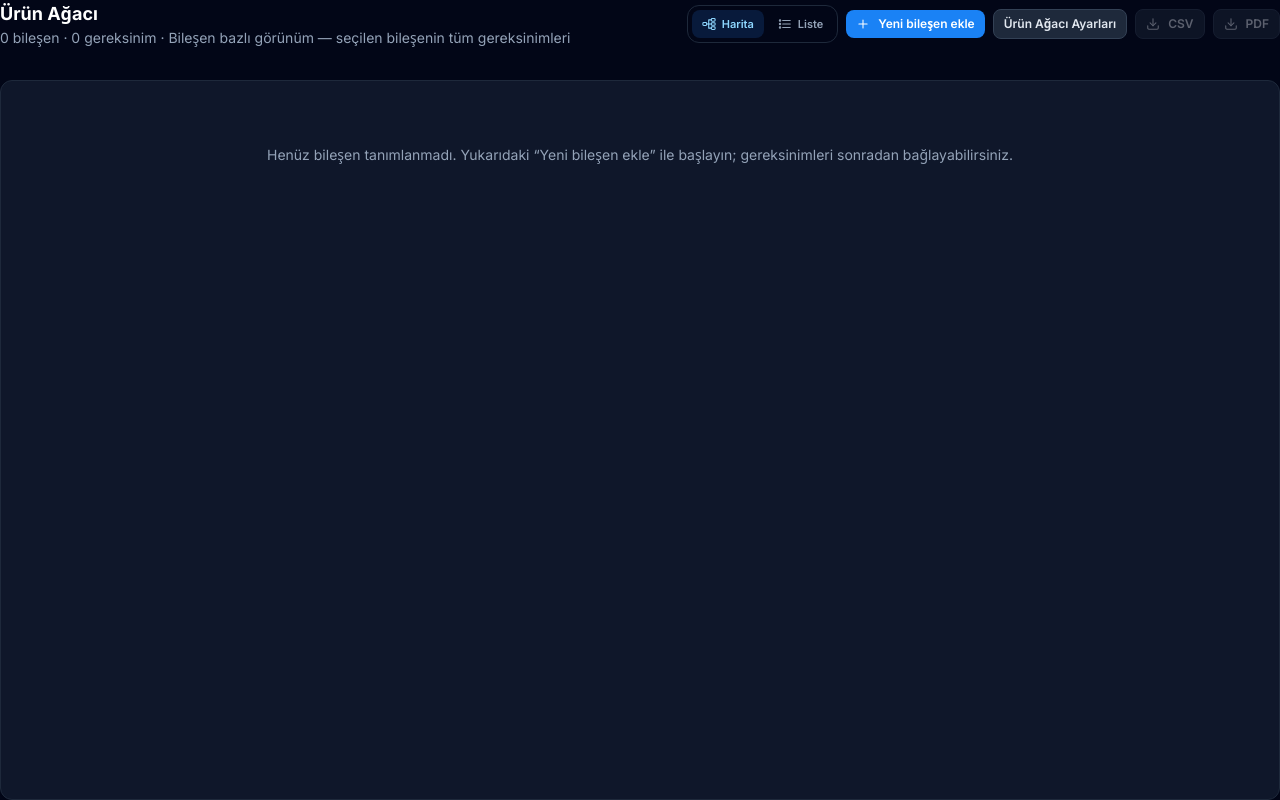
Test: Boş proje: bileşen oluşturma › hiç gereksinimi olmayan projede boş liste + "Yeni bileşen ekle" ile açılır
Click the button with test id "comp-view-list" at (801, 24), box [768,10,833,38]
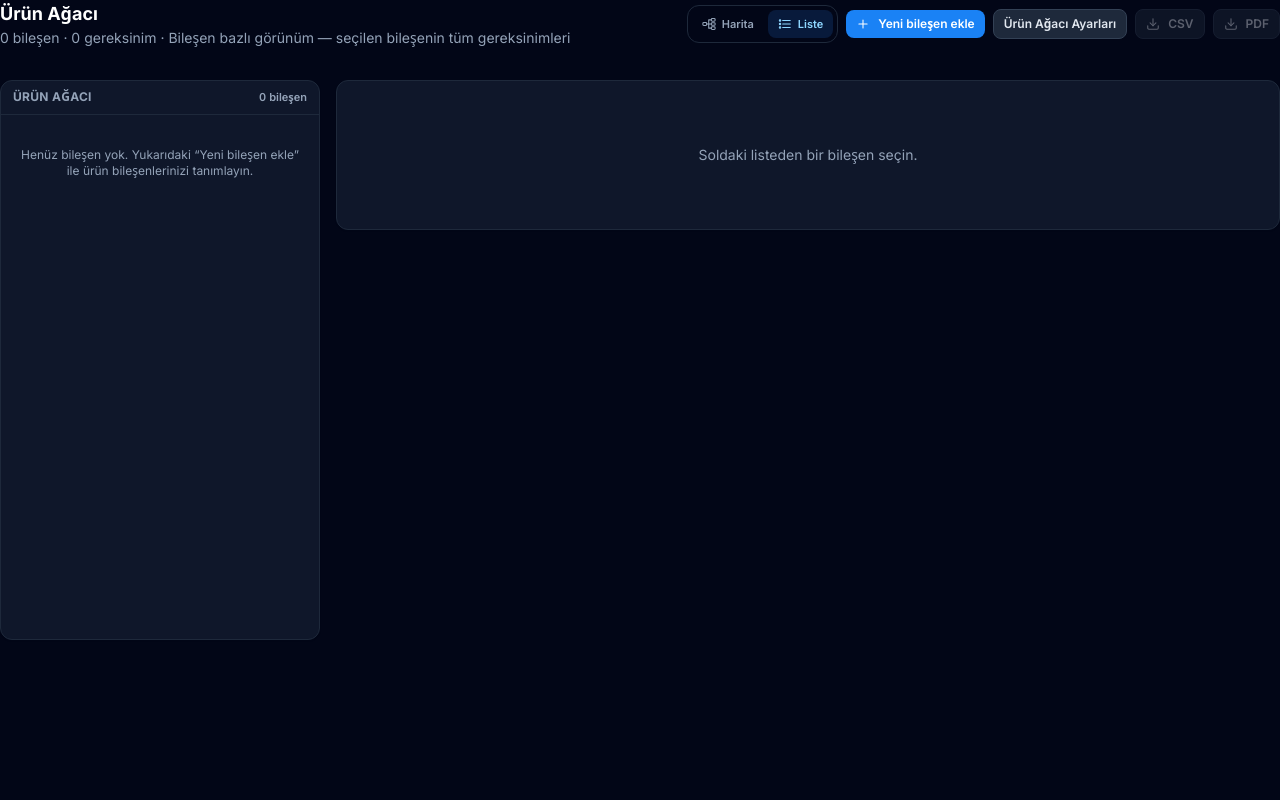
Expected: the button with test id "comp-add-root" is shown, [846,10,985,38]
Expected: the element with test id "comp-manual-panel" is shown, [0,80,320,640]
Expected: the text with test id "comp-manual-empty" is shown, [21,146,299,178]
